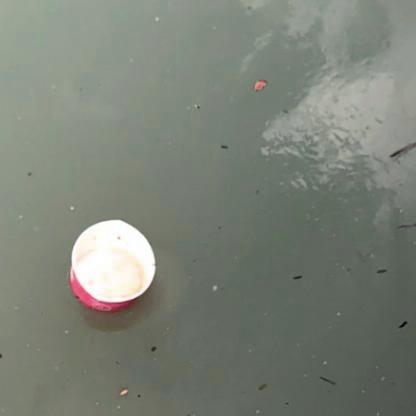Plastic: (65, 217, 155, 309)
